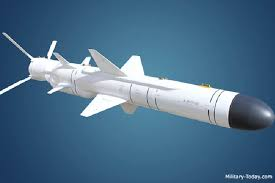ten_lua: (5, 34, 275, 145)
